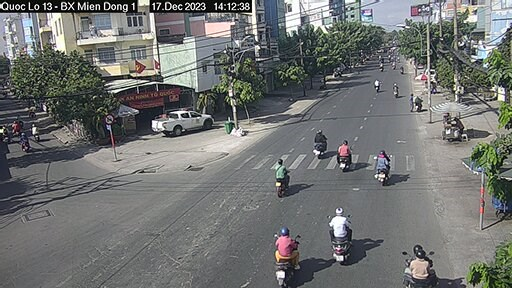car: (152, 111, 213, 136)
motorbike: (271, 231, 307, 288), (326, 207, 350, 263), (405, 249, 435, 288), (269, 156, 288, 195), (375, 148, 394, 184), (306, 127, 327, 157), (336, 140, 353, 169), (391, 81, 403, 99), (373, 76, 381, 95)
